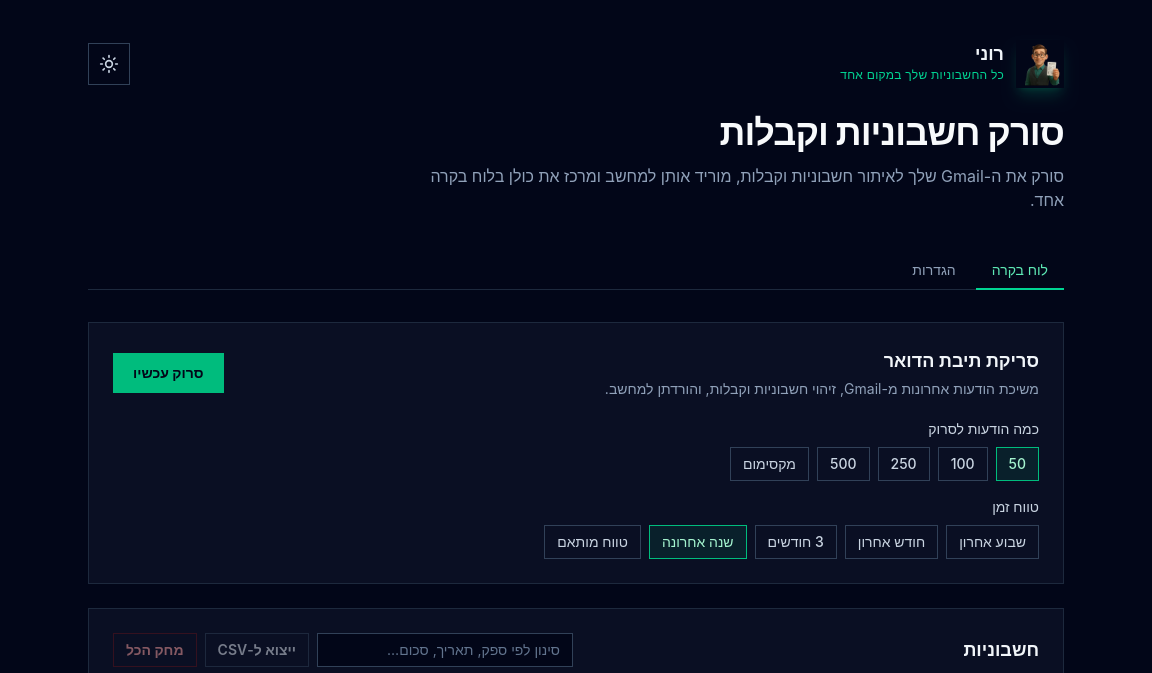
Scenario: App.vue — RONY-14 Scan now › surfaces a scan error inline without crashing the UI
Click the button "סרוק עכשיו" at coordinates (168, 373), box [113, 353, 224, 393]
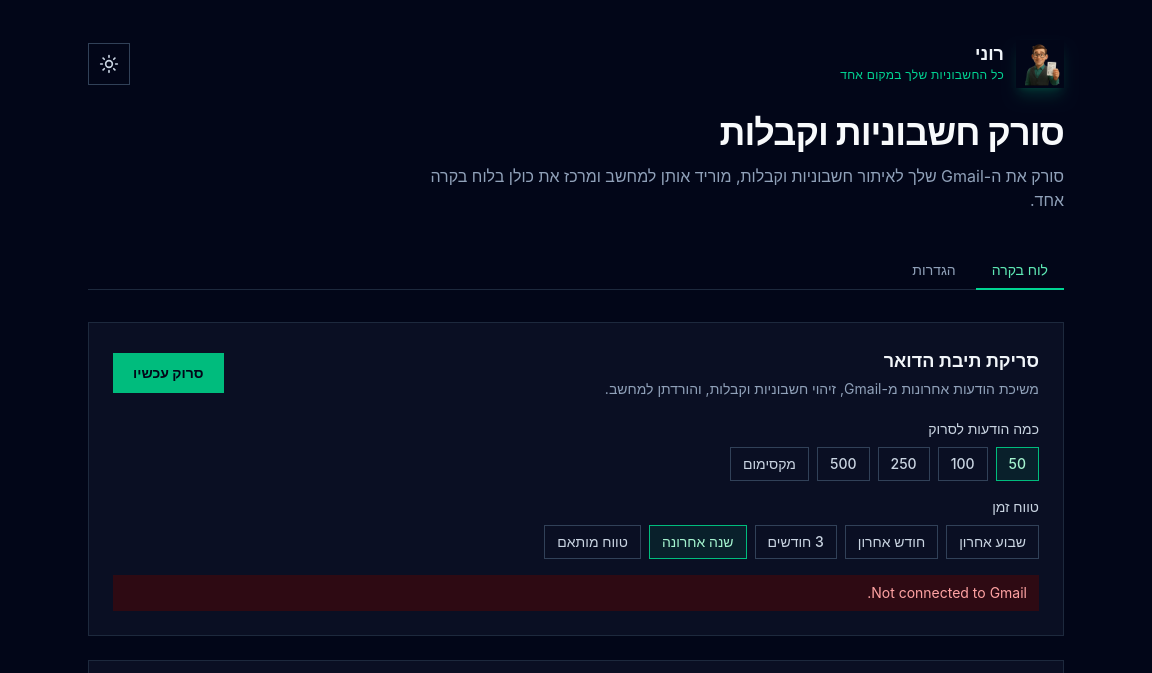
Result: the text "Not connected to Gmail." is shown at [113, 575, 1039, 611]
